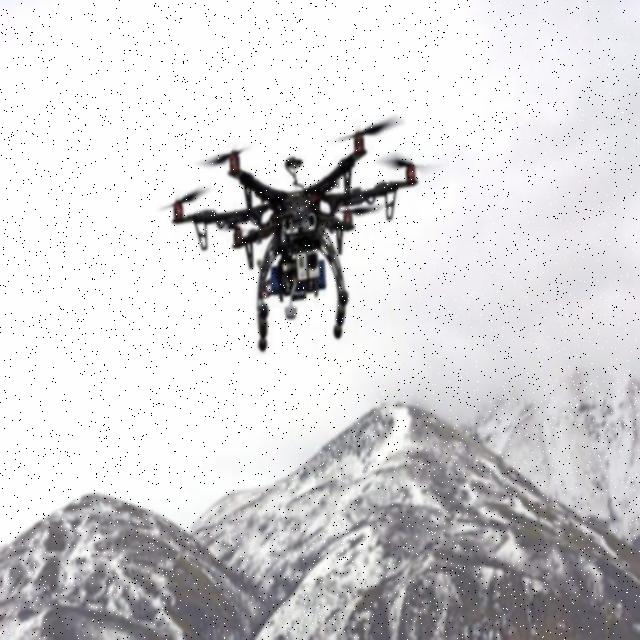UAV: (171, 120, 418, 356)
